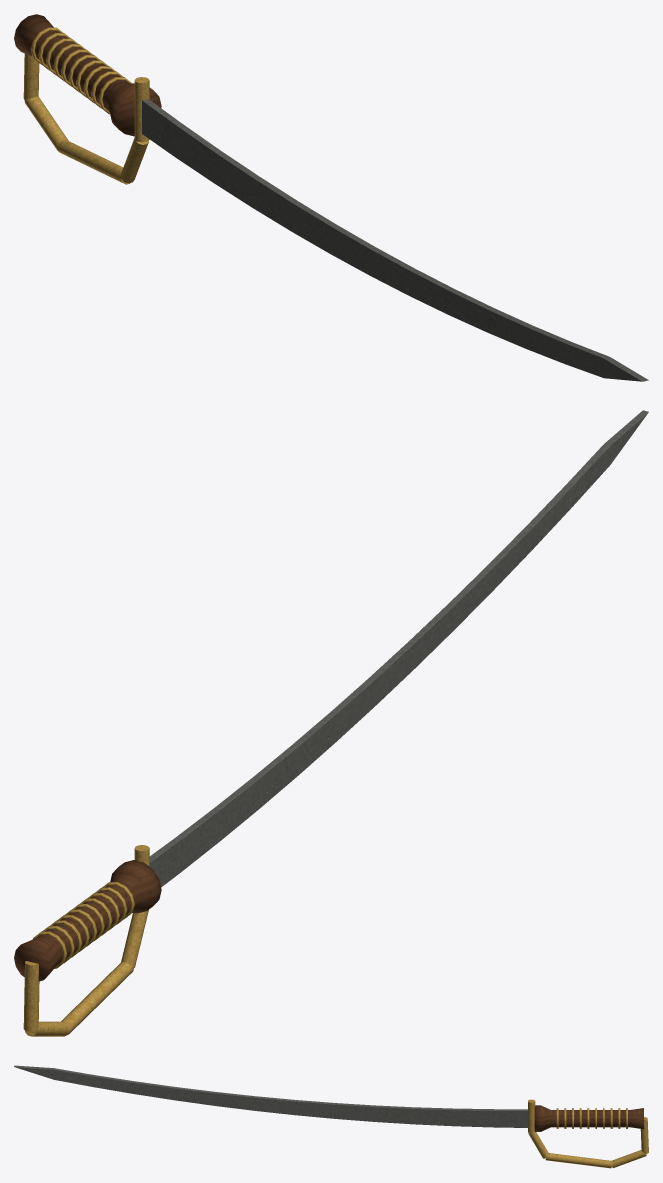
Rendered from sabre_1809.glb.
3 views of the same model, one above another, from view 1: azimuth 30°, elevation 25°; view 2: azimuth 150°, elevation 25°; view 3: azimuth 270°, elevation 25° (orthographic). The views are drawn at different scales.
Parts seen in each view (by area): view 1: sabre_1809.body; view 2: sabre_1809.body; view 3: sabre_1809.body.
Part boxes in pixels (x1,y1,x2,y2): sabre_1809.body: (14, 14, 648, 381); sabre_1809.body: (14, 410, 648, 1036); sabre_1809.body: (14, 1065, 648, 1168).
Bounding box in the file's own units: 0.042 × 0.1746 × 0.9875.
Materials: 3 (3 with a texture image).
